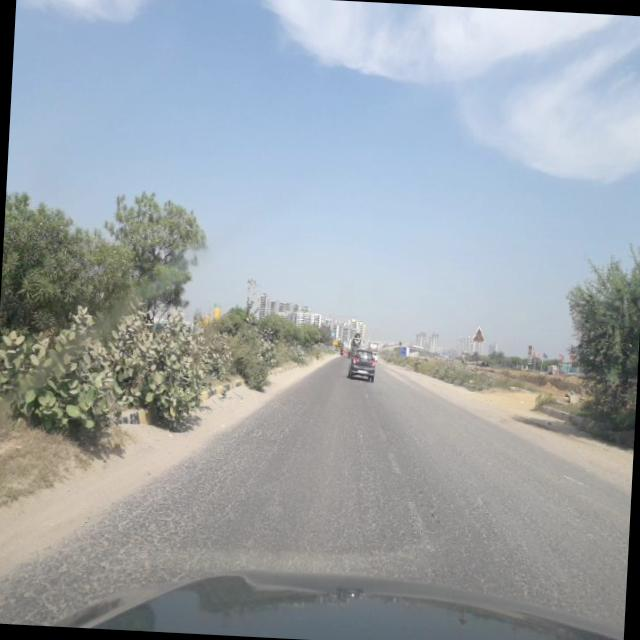crack: (23, 410, 632, 604)
